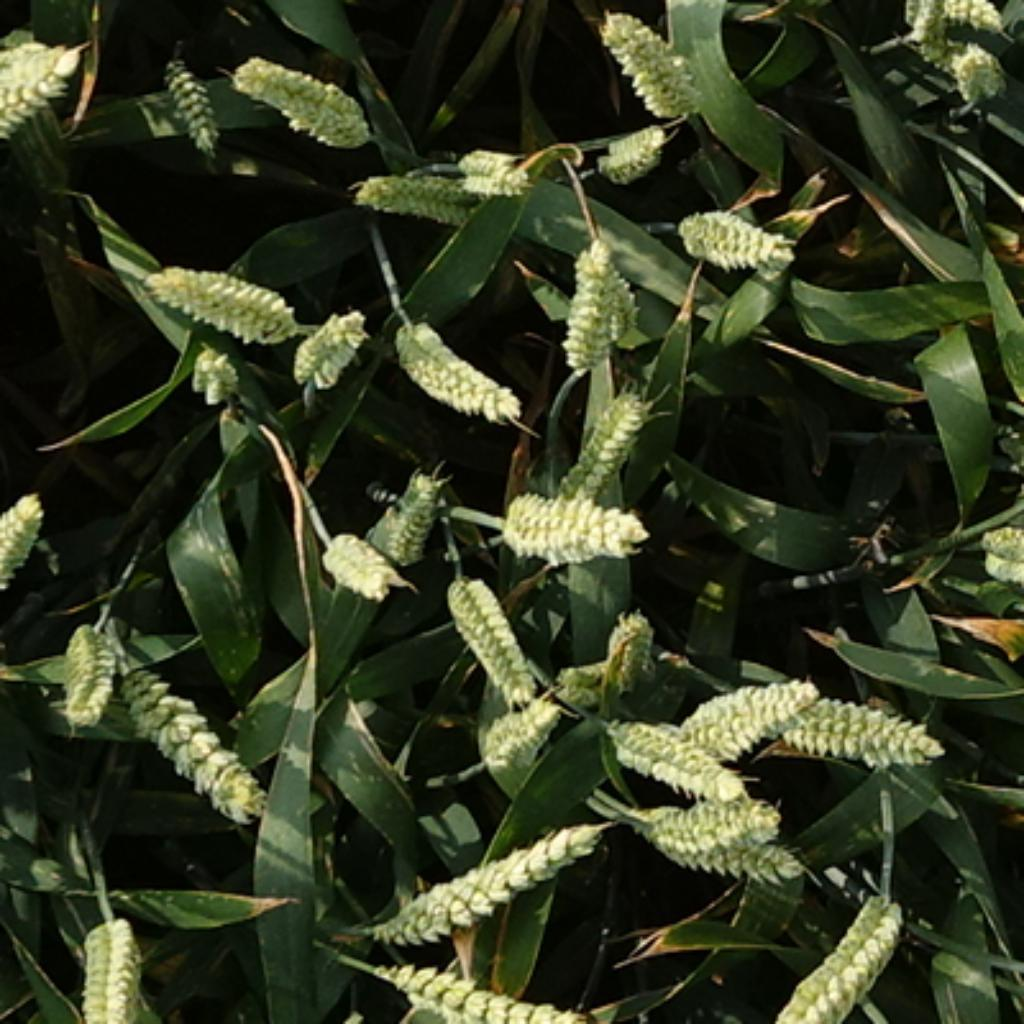0-0: (355, 811, 609, 947), (107, 637, 273, 826), (353, 942, 616, 1024), (775, 880, 911, 1024), (647, 798, 819, 896), (384, 309, 522, 427), (230, 35, 376, 143), (768, 678, 944, 765), (140, 245, 302, 337), (601, 709, 753, 802), (491, 473, 650, 560), (670, 665, 821, 755), (593, 0, 709, 117), (437, 563, 535, 696), (0, 17, 85, 163), (558, 225, 642, 366), (66, 901, 148, 1024), (563, 376, 652, 486), (668, 194, 798, 268), (145, 46, 222, 148), (373, 460, 450, 560), (355, 158, 478, 217), (53, 611, 120, 719), (473, 688, 563, 768), (640, 798, 798, 842), (588, 601, 665, 691), (291, 307, 371, 392), (550, 645, 647, 711), (318, 529, 400, 603), (911, 0, 1024, 48), (450, 135, 535, 194), (593, 125, 670, 189), (599, 258, 650, 345), (0, 489, 45, 587), (939, 43, 1006, 107), (903, 0, 962, 69), (182, 342, 244, 406), (978, 515, 1024, 583)
